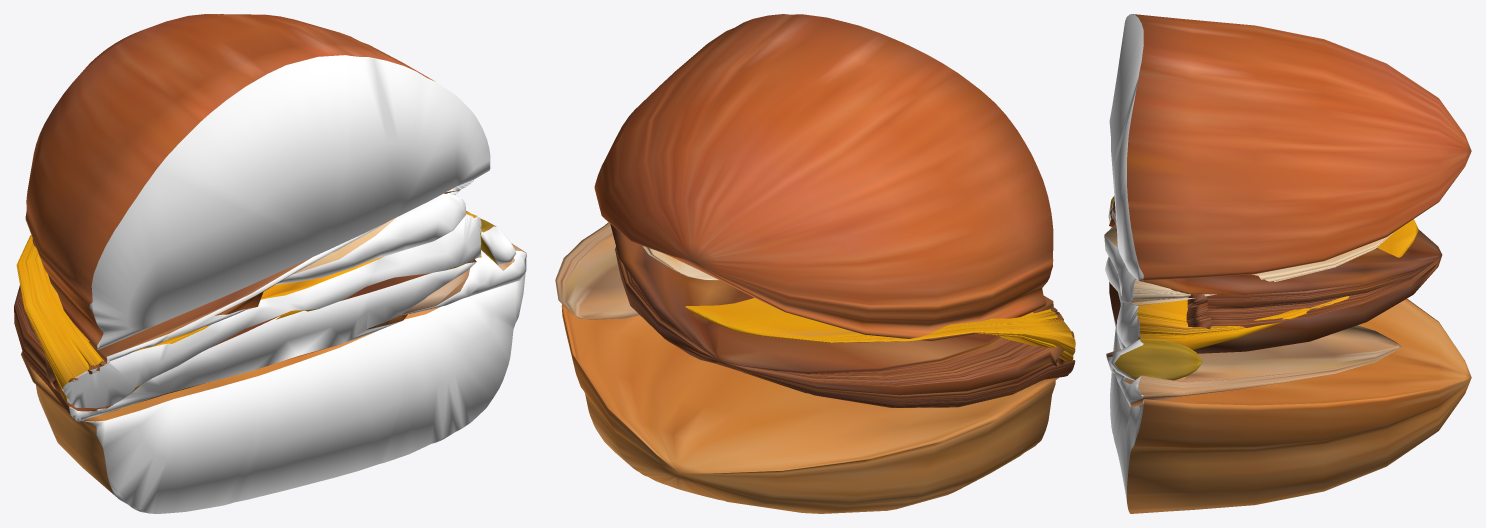
The model's file is 100-percento-vegano.glb.
3 renders of one model, left to right at view 1: azimuth 30°, elevation 25°; view 2: azimuth 150°, elevation 25°; view 3: azimuth 270°, elevation 25°, orthographic.
Parts seen in each view (by area): view 1: ingredient_00_top_bun_solid, ingredient_06_bottom_bun_solid, ingredient_03_beyond_patty_solid, ingredient_02_vegan_cheddar_solid, ingredient_01_mayo_solid, ingredient_05_bottom_mayo_solid, ingredient_04_pickle_solid; view 2: ingredient_00_top_bun_solid, ingredient_06_bottom_bun_solid, ingredient_03_beyond_patty_solid, ingredient_02_vegan_cheddar_solid, ingredient_05_bottom_mayo_solid, ingredient_01_mayo_solid; view 3: ingredient_00_top_bun_solid, ingredient_06_bottom_bun_solid, ingredient_03_beyond_patty_solid, ingredient_05_bottom_mayo_solid, ingredient_02_vegan_cheddar_solid, ingredient_01_mayo_solid, ingredient_04_pickle_solid.
Boxes of the visible parts, x1,y1,x2,y2 form: ingredient_00_top_bun_solid: (25,14,490,349); ingredient_06_bottom_bun_solid: (21,272,525,513); ingredient_03_beyond_patty_solid: (14,179,476,421); ingredient_02_vegan_cheddar_solid: (16,211,481,408); ingredient_01_mayo_solid: (274,191,466,285); ingredient_05_bottom_mayo_solid: (400,210,526,315); ingredient_04_pickle_solid: (480,219,516,264); ingredient_00_top_bun_solid: (594,14,1053,341); ingredient_06_bottom_bun_solid: (561,304,1058,513); ingredient_03_beyond_patty_solid: (610,224,1075,407); ingredient_02_vegan_cheddar_solid: (685,298,1075,361); ingredient_05_bottom_mayo_solid: (555,222,639,319); ingredient_01_mayo_solid: (643,246,718,280); ingredient_00_top_bun_solid: (1109,14,1471,280); ingredient_06_bottom_bun_solid: (1110,298,1471,513); ingredient_03_beyond_patty_solid: (1109,197,1442,353); ingredient_05_bottom_mayo_solid: (1106,325,1401,407); ingredient_02_vegan_cheddar_solid: (1105,196,1418,349); ingredient_01_mayo_solid: (1104,224,1394,305); ingredient_04_pickle_solid: (1109,338,1201,380).
Size of the model in its own units: 1.82 by 1.61 by 1.25.
